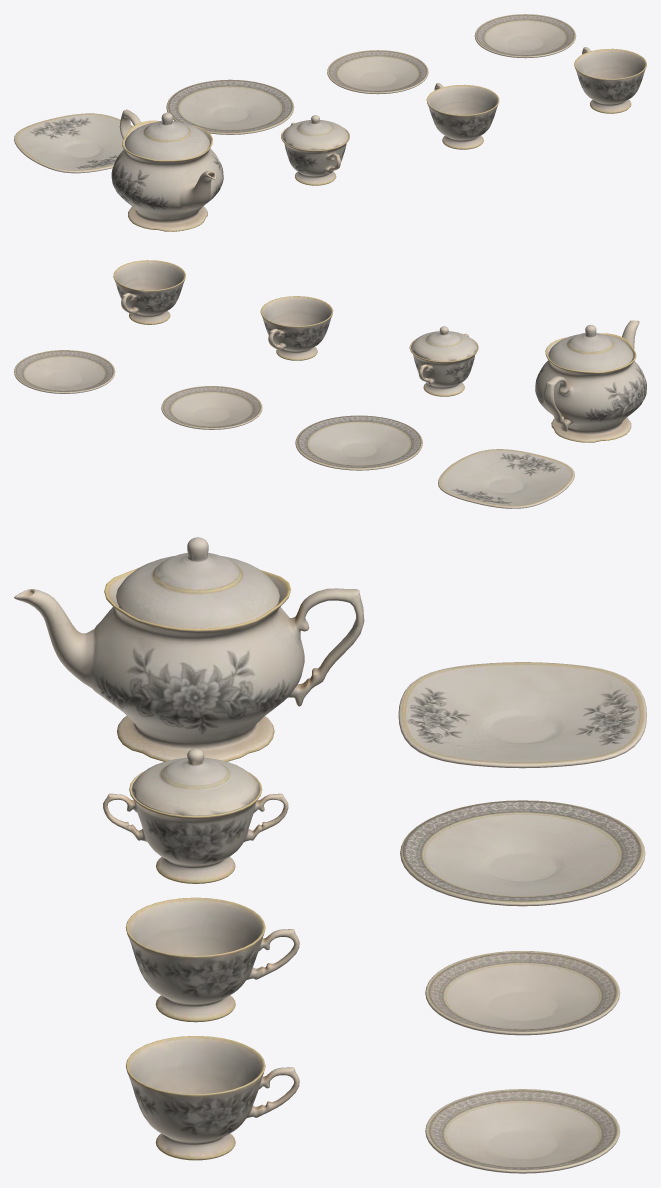
File: tea_set_01.glb
3 views of the same model, one above another, from view 1: azimuth 30°, elevation 25°; view 2: azimuth 150°, elevation 25°; view 3: azimuth 270°, elevation 25° (orthographic). The views are drawn at different scales.
Parts seen in each view (by area): view 1: tea_set_01_plate_large_square_01; view 2: tea_set_01_plate_large_square_01; view 3: tea_set_01_plate_large_square_01.
Boxes of the visible parts, left/top/right/bottom form: tea_set_01_plate_large_square_01: left=14, top=14, right=646, bottom=231; tea_set_01_plate_large_square_01: left=14, top=260, right=646, bottom=508; tea_set_01_plate_large_square_01: left=14, top=537, right=646, bottom=1173.
Size of the model in its own units: 0.9185 by 0.165 by 0.4839.
Materials: 1 (1 with a texture image).
